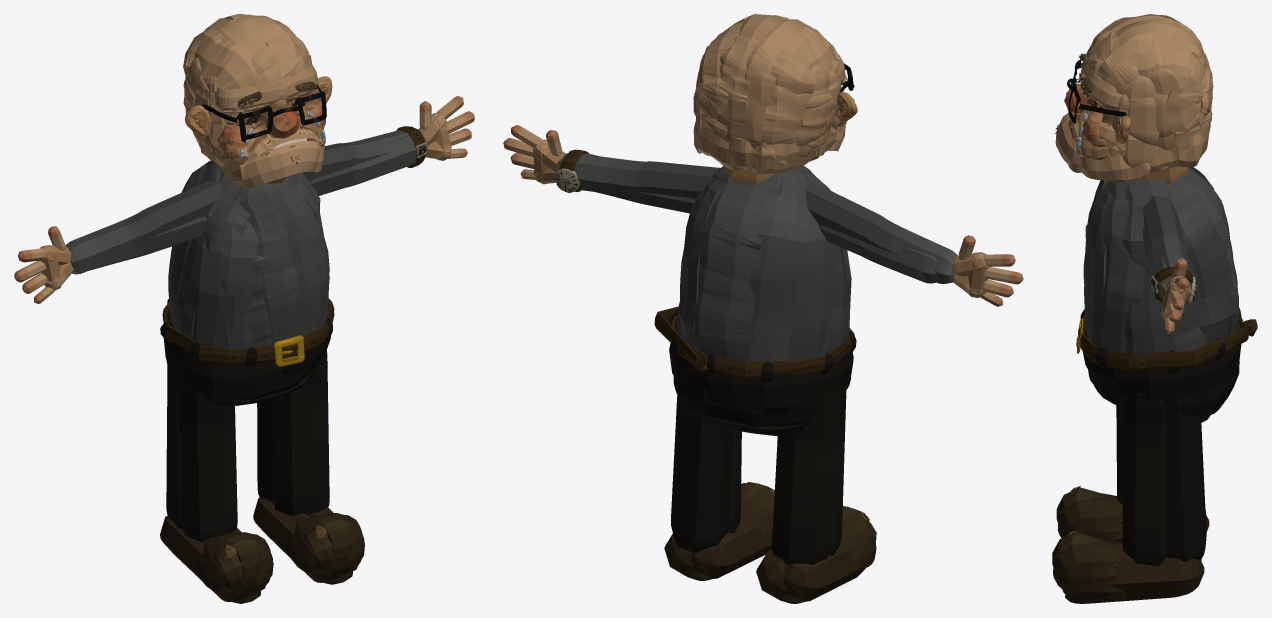
File: cryinggrandpa.fbx
3 renders of one model, left to right at view 1: azimuth 30°, elevation 25°; view 2: azimuth 150°, elevation 25°; view 3: azimuth 270°, elevation 25°, orthographic. The views are drawn at different scales.
Parts seen in each view (by area): view 1: Legs, Body, Skin, rArms, Shoe, Glasses, lines; view 2: Legs, Body, Skin, rArms, Shoe, Watch; view 3: Legs, Body, Skin, Shoe, rArms, Glasses, Watch, Neck, lines.
Boxes of the visible parts, x1,y1,x2,y2 form: Legs: [160, 298, 334, 541]; Body: [168, 160, 329, 348]; Skin: [183, 14, 332, 188]; rArms: [14, 96, 474, 303]; Shoe: [160, 497, 364, 603]; Glasses: [202, 84, 326, 142]; lines: [233, 81, 322, 163]; Legs: [654, 306, 856, 565]; Body: [677, 165, 851, 361]; Skin: [693, 14, 857, 174]; rArms: [503, 125, 1023, 306]; Shoe: [664, 482, 876, 603]; Watch: [555, 149, 588, 192]; Legs: [1076, 308, 1257, 565]; Body: [1083, 166, 1239, 353]; Skin: [1055, 14, 1213, 180]; Shoe: [1052, 485, 1209, 603]; rArms: [1142, 195, 1191, 333]; Glasses: [1067, 59, 1126, 123]; Watch: [1150, 266, 1196, 303]; Neck: [1110, 166, 1188, 184]; lines: [1055, 53, 1099, 148].
Bounding box in the file's own units: 1.74 × 1.9 × 0.6384.
